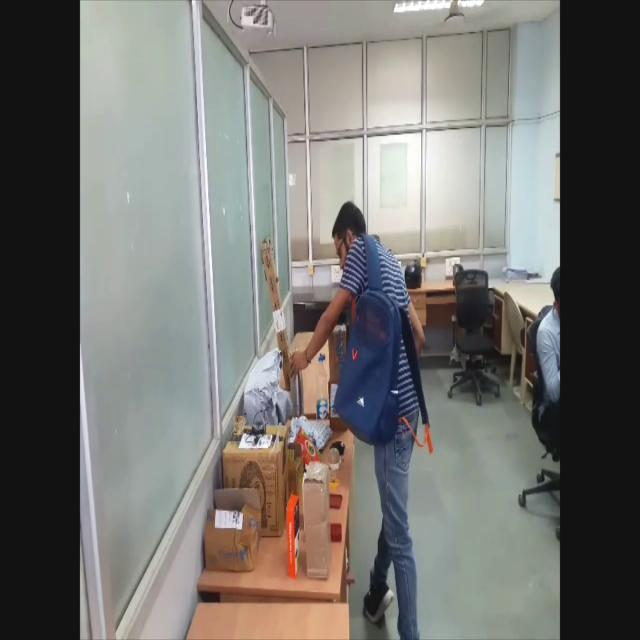normal: (284, 136, 438, 640)
